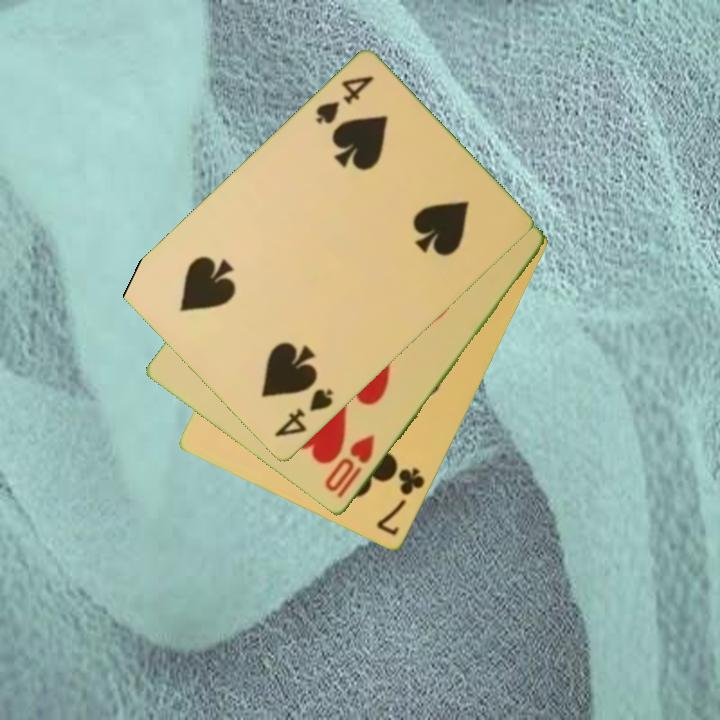10h: (321, 432, 378, 502)
4s: (270, 385, 336, 441), (312, 73, 377, 128)
7c: (373, 464, 428, 539)
